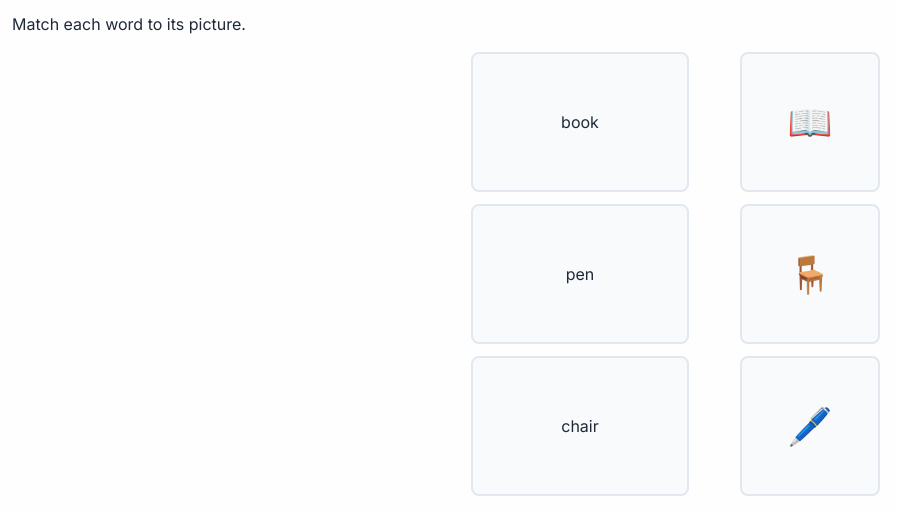
Scenario: MatchPairs › a correct match locks both tiles (disabled)
What coordinates should you click on to do the following:
click the button "book"
I would click on:
 (580, 122)
Its box is [471, 52, 689, 192].
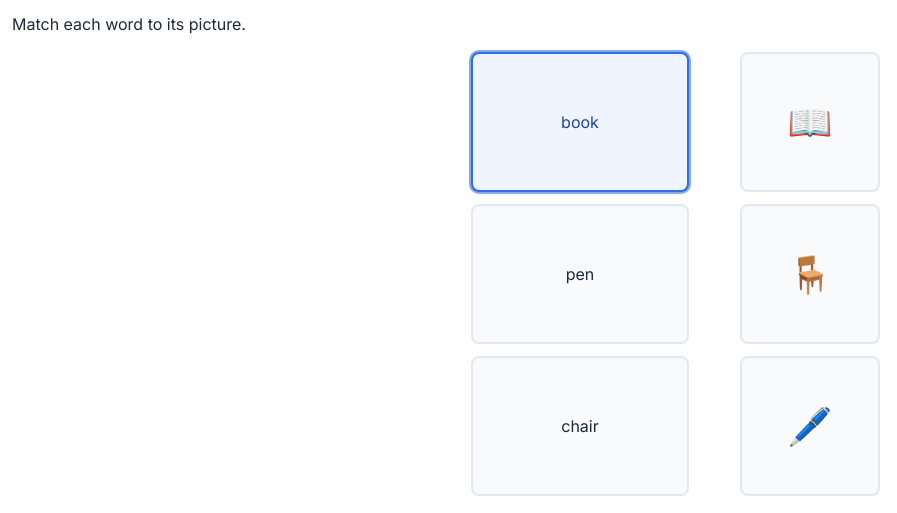
What coordinates should you click on to do the following:
click the button named "An open book"
I would click on:
 (810, 122)
Its box is [740, 52, 880, 192].
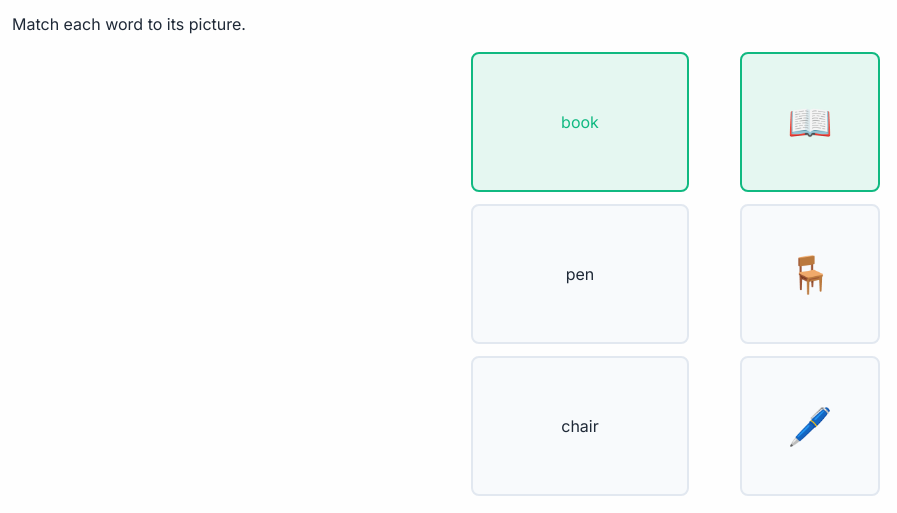
Expected: the button with aria-label "book (matched)" is disabled, [471, 52, 689, 192]
Expected: the button named "An open book" is disabled, [740, 52, 880, 192]
